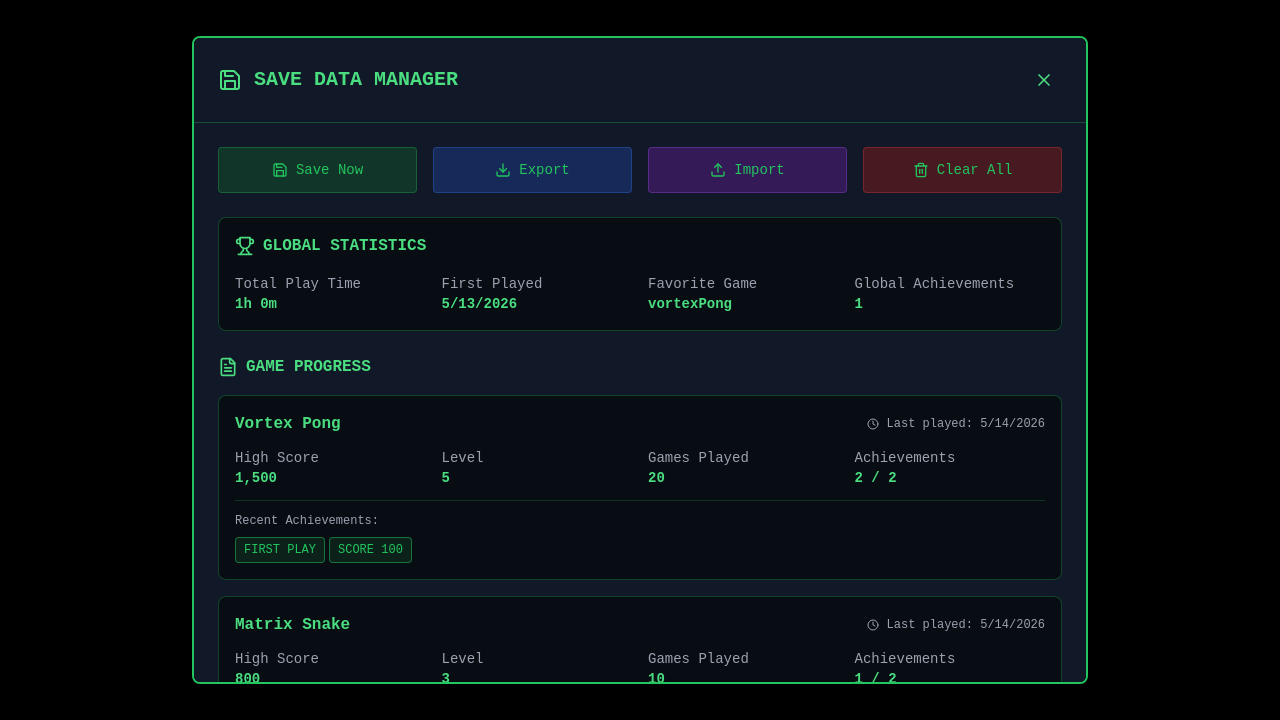
Test case: SaveLoadManager › Clear Data Confirmation › shows Confirm? text on second click
Click the button "Clear All".
click(962, 170)  # box [863,147,1062,193]
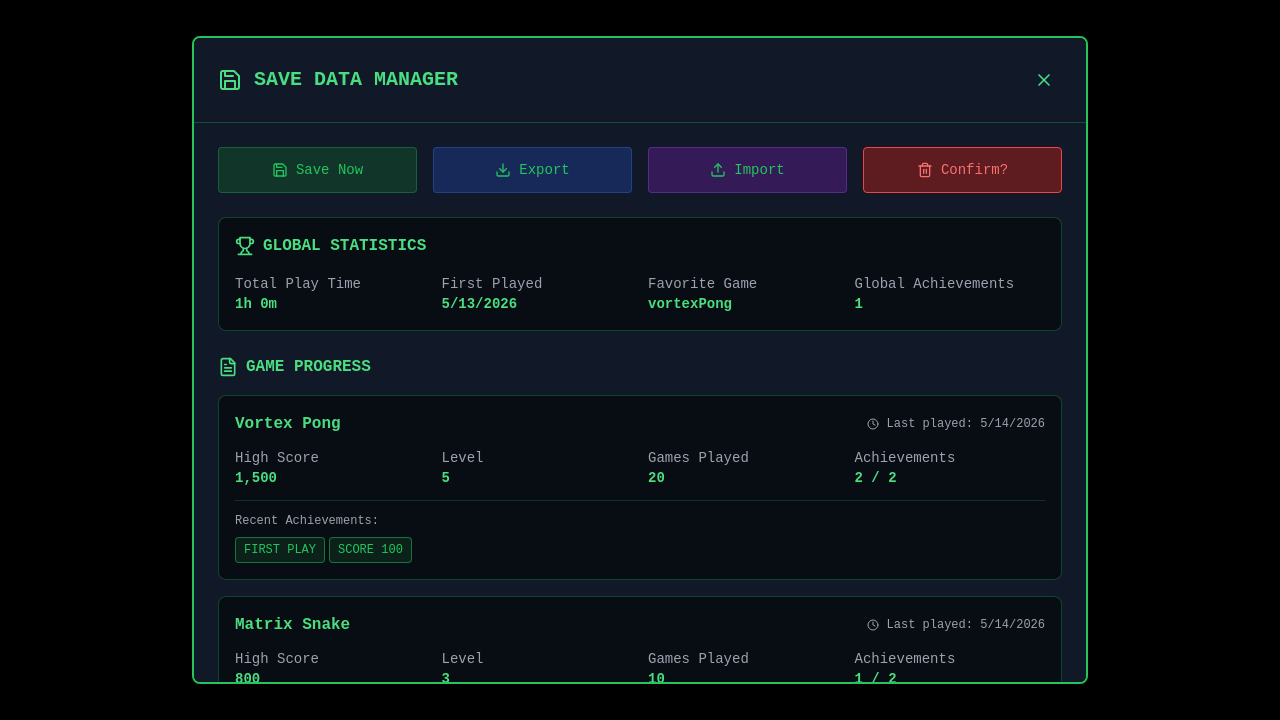
expect the text "Confirm?" is shown: met, box [941,160,1008,180]
